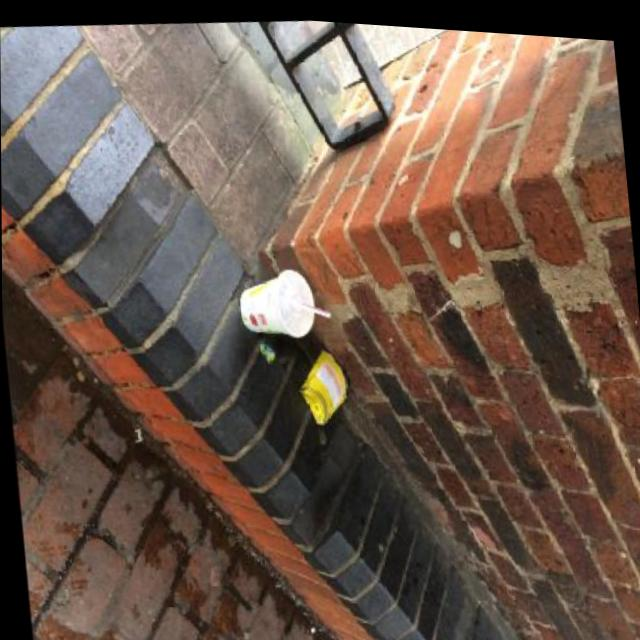cardboard: (233, 264, 316, 343), (293, 345, 350, 430)
plastic: (295, 297, 330, 320)
